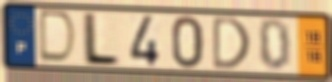0: (256, 17, 293, 73), (169, 14, 206, 70)
4: (128, 13, 162, 69)
D: (36, 8, 79, 66), (210, 14, 252, 72)
L: (80, 11, 123, 68)
